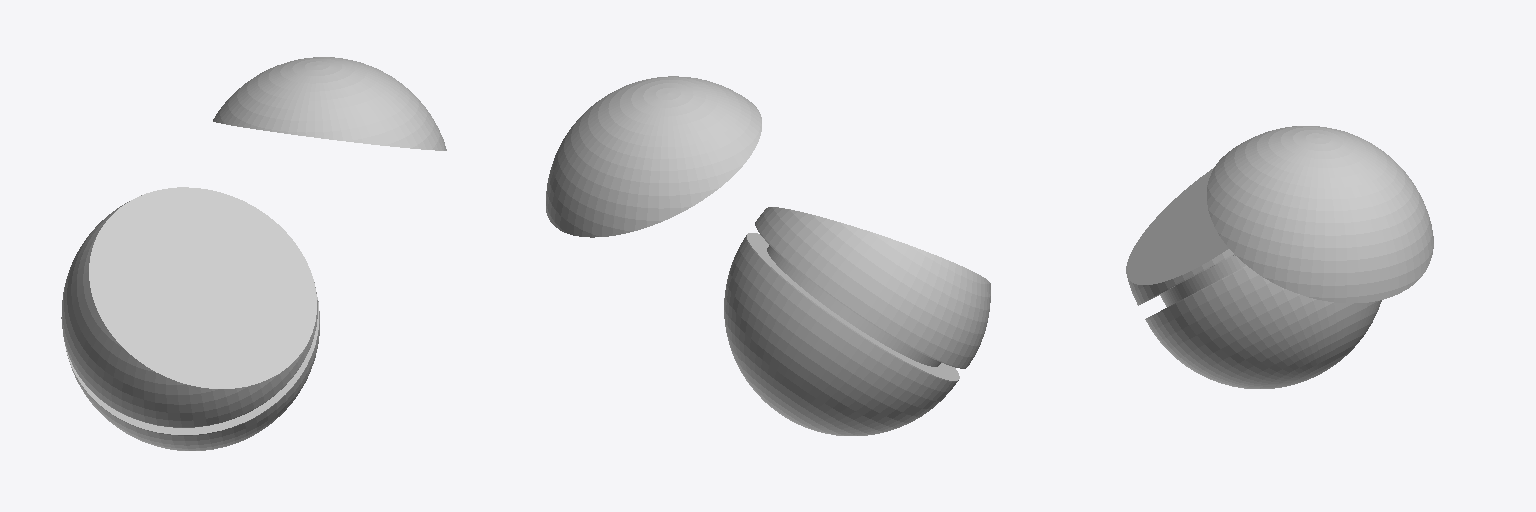
The model's file is Drone166_000010.obj.
The picture shows the model from 3 angles: view 1: azimuth 30°, elevation 25°; view 2: azimuth 150°, elevation 25°; view 3: azimuth 270°, elevation 25°; orthographic projection.
Visible parts, largest first — view 1: Sphere.006, Sphere.000_Sphere.007; view 2: Sphere.006, Sphere.000_Sphere.007; view 3: Sphere.000_Sphere.007, Sphere.006.
Part boxes in pixels (x1,y1,x2,y2): Sphere.006: (61,187,319,450); Sphere.000_Sphere.007: (213,57,446,150); Sphere.006: (724,207,990,435); Sphere.000_Sphere.007: (546,76,761,237); Sphere.000_Sphere.007: (1207,126,1433,302); Sphere.006: (1126,168,1381,388).
Bounding box in the file's own units: 3.44 × 2.7 × 2.39.